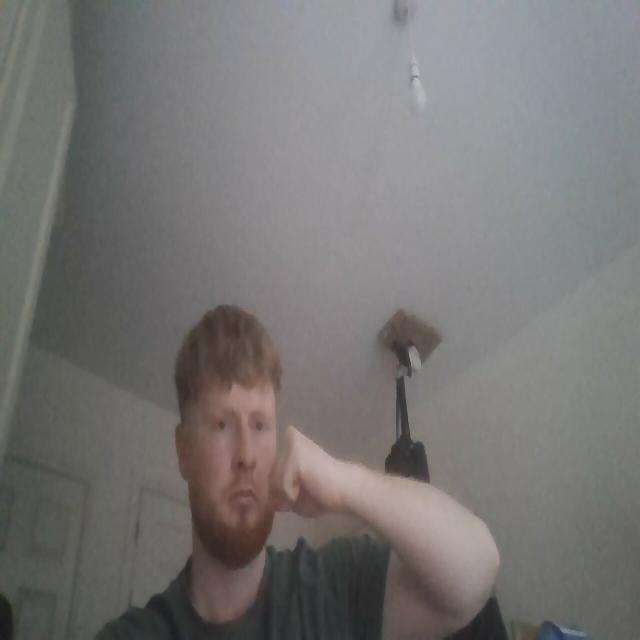rock: (270, 425, 348, 522)
